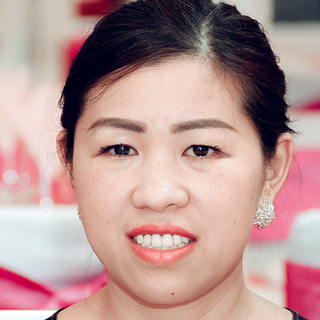eye: (178, 139, 226, 165), (95, 139, 143, 164)
